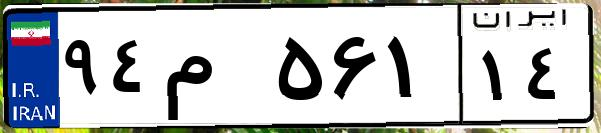1: (385, 28, 445, 110), (475, 38, 525, 113)
4: (525, 38, 570, 115), (110, 28, 158, 98)
5: (270, 28, 330, 110)
6: (330, 28, 385, 110)
9: (57, 26, 110, 100)
م: (158, 20, 270, 120)
